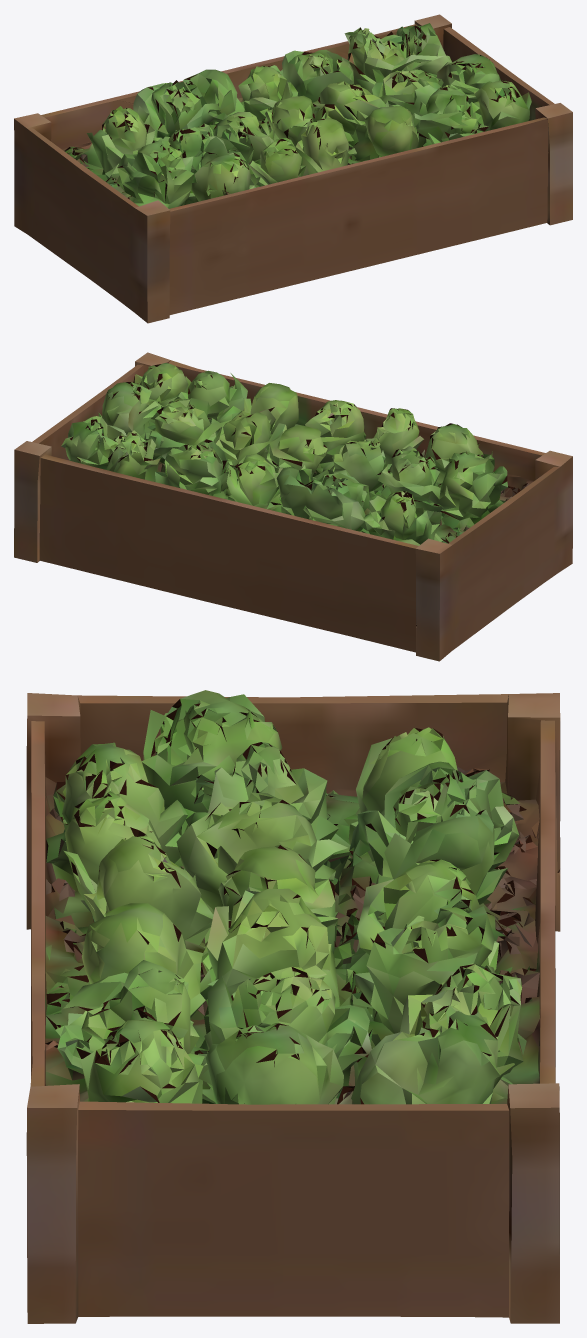
Rendered from RaisedBed.glb.
3 views of the same model, one above another, from view 1: azimuth 30°, elevation 25°; view 2: azimuth 150°, elevation 25°; view 3: azimuth 270°, elevation 25° (orthographic). The views are drawn at different scales.
Visible parts, largest first — view 1: RaisedBed; view 2: RaisedBed; view 3: RaisedBed.
Part boxes in pixels (x1,y1,x2,y2): RaisedBed: [14, 14, 572, 323]; RaisedBed: [14, 352, 572, 661]; RaisedBed: [26, 690, 560, 1323].
Size of the model in its own units: 2.4 by 0.7186 by 1.3.
Materials: 1 (1 with a texture image).
